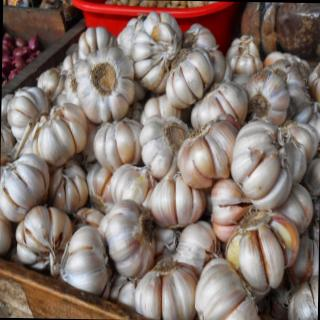Bawang Putih: (73, 46, 137, 128)
